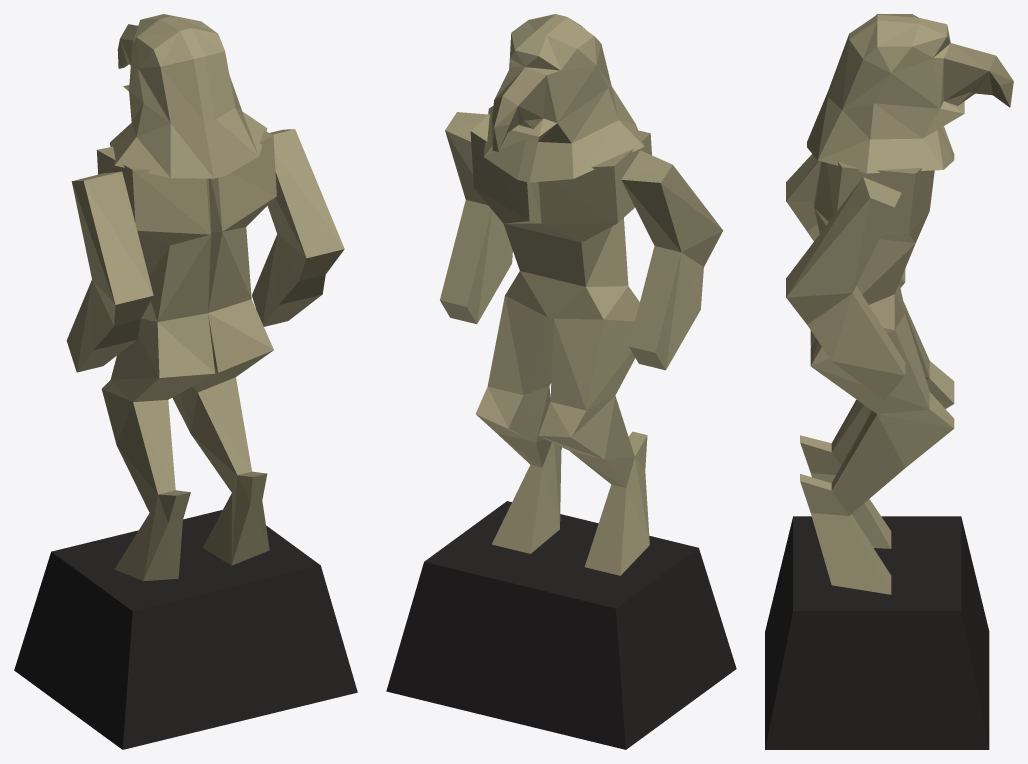
Rendered from obj_statue_6_0.obj.
3 renders of one model, left to right at view 1: azimuth 30°, elevation 25°; view 2: azimuth 150°, elevation 25°; view 3: azimuth 270°, elevation 25°, orthographic. The views are drawn at different scales.
Size of the model in its own units: 0.625 by 1.66 by 0.5547.
